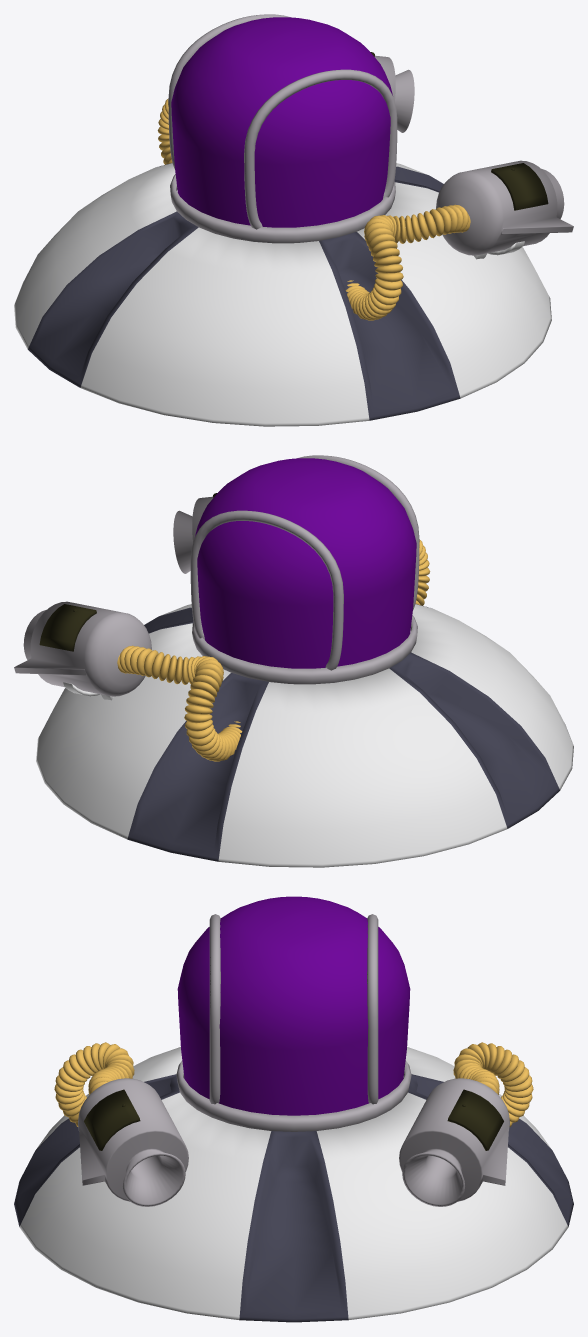
The picture shows the model from 3 angles, top to bottom: view 1: azimuth 30°, elevation 25°; view 2: azimuth 150°, elevation 25°; view 3: azimuth 270°, elevation 25°; orthographic projection. The views are drawn at different scales.
Visible parts, largest first — view 1: Sphere.001, Sphere.002, Cylinder, Cube, NurbsPath.004, Sphere.005, Cylinder.002; view 2: Sphere.001, Sphere.002, Cylinder, Cube, NurbsPath.004, Sphere.005, Cylinder.002; view 3: Sphere.001, Sphere.002, Cylinder, Cube, NurbsPath.004, Sphere.005, Cylinder.002.
Part boxes in pixels (<box>): Sphere.001: <box>14,163,551,426</box>; Sphere.002: <box>171,17,392,227</box>; Cylinder: <box>374,55,573,255</box>; Cube: <box>157,99,470,320</box>; NurbsPath.004: <box>168,14,397,229</box>; Sphere.005: <box>170,174,395,243</box>; Cylinder.002: <box>370,52,548,210</box>; Sphere.001: <box>36,604,573,867</box>; Sphere.002: <box>195,458,416,668</box>; Cylinder: <box>14,496,213,696</box>; Cube: <box>117,540,430,761</box>; NurbsPath.004: <box>190,455,419,670</box>; Sphere.005: <box>192,615,417,684</box>; Cylinder.002: <box>39,493,217,651</box>; Sphere.001: <box>14,1047,573,1322</box>; Sphere.002: <box>177,896,410,1115</box>; Cylinder: <box>78,1078,509,1206</box>; Cube: <box>54,1042,533,1126</box>; NurbsPath.004: <box>209,914,378,1104</box>; Sphere.005: <box>176,1060,411,1131</box>; Cylinder.002: <box>84,1089,503,1150</box>.
Bounding box in the file's own units: 1.96 × 1.29 × 1.96.
7 materials, 1 textured.
